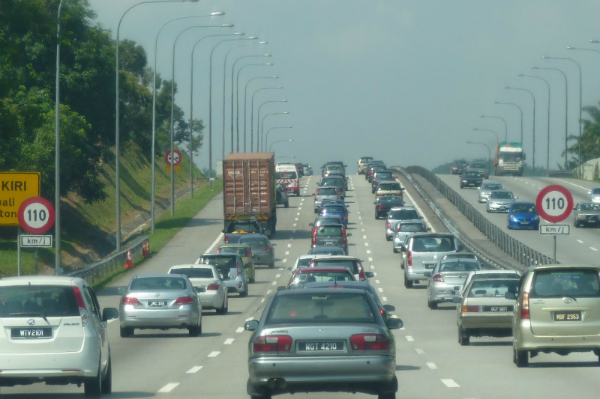Speed_limit_110km: (17, 196, 56, 234), (535, 185, 574, 222)
car: (243, 286, 404, 399), (511, 266, 600, 366), (115, 273, 208, 337)
